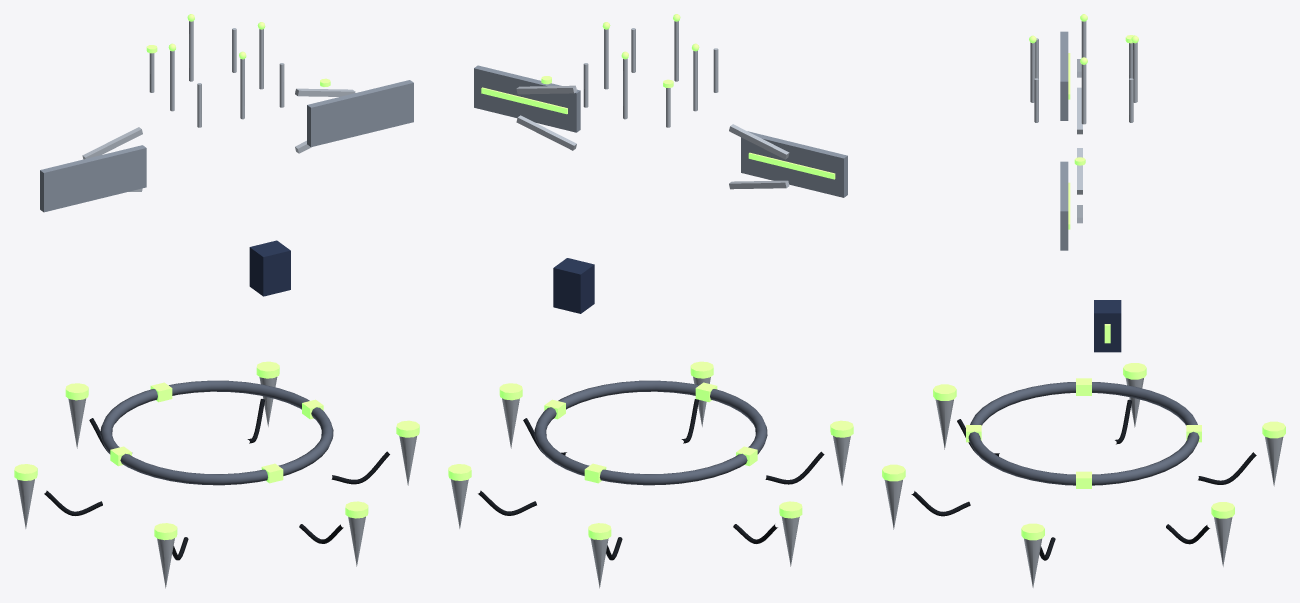
File: tower_detector_field_s8.glb
3 views of the same model, side by side, from view 1: azimuth 30°, elevation 25°; view 2: azimuth 150°, elevation 25°; view 3: azimuth 270°, elevation 25° (orthographic).
Visible parts, largest first — view 1: detector_base_ring, detector_wing_l, detector_wing_r, detector_relay, detector_wing_strut_r; view 2: detector_base_ring, detector_wing_r, detector_wing_l, detector_relay, detector_wing_glow_r, detector_wing_glow_l, detector_wing_strut_b_l, detector_wing_strut_r; view 3: detector_base_ring, detector_relay, detector_wing_l, detector_wing_r.
Part boxes in pixels (x1,y1,x2,y2): detector_base_ring: [100, 380, 333, 485]; detector_wing_l: [307, 80, 413, 147]; detector_wing_r: [40, 145, 146, 212]; detector_relay: [249, 240, 290, 296]; detector_wing_strut_r: [82, 127, 142, 159]; detector_base_ring: [534, 380, 767, 485]; detector_wing_r: [741, 131, 847, 197]; detector_wing_l: [474, 65, 580, 132]; detector_relay: [553, 258, 594, 313]; detector_wing_glow_r: [748, 152, 835, 179]; detector_wing_glow_l: [481, 87, 567, 114]; detector_wing_strut_b_l: [516, 115, 576, 150]; detector_wing_strut_r: [729, 124, 789, 159]; detector_base_ring: [968, 382, 1199, 485]; detector_relay: [1094, 300, 1121, 352]; detector_wing_l: [1060, 161, 1068, 250]; detector_wing_r: [1060, 31, 1068, 120].
Bounding box in the file's own units: 2.16 × 2.65 × 2.05.
